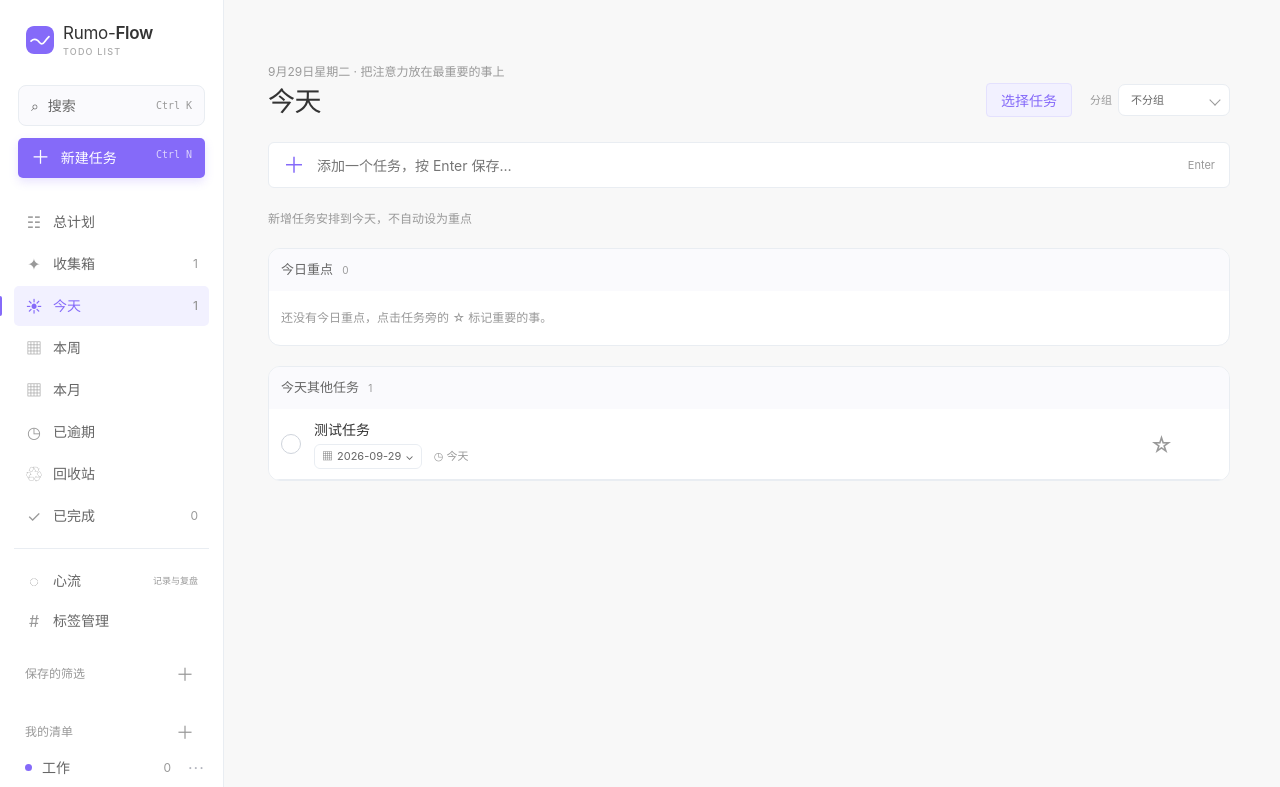
App critical interactions › toggles the list composer button state and keeps its draft until creation
Click the button named "新建清单".
click(184, 732)  # box [170, 718, 198, 746]
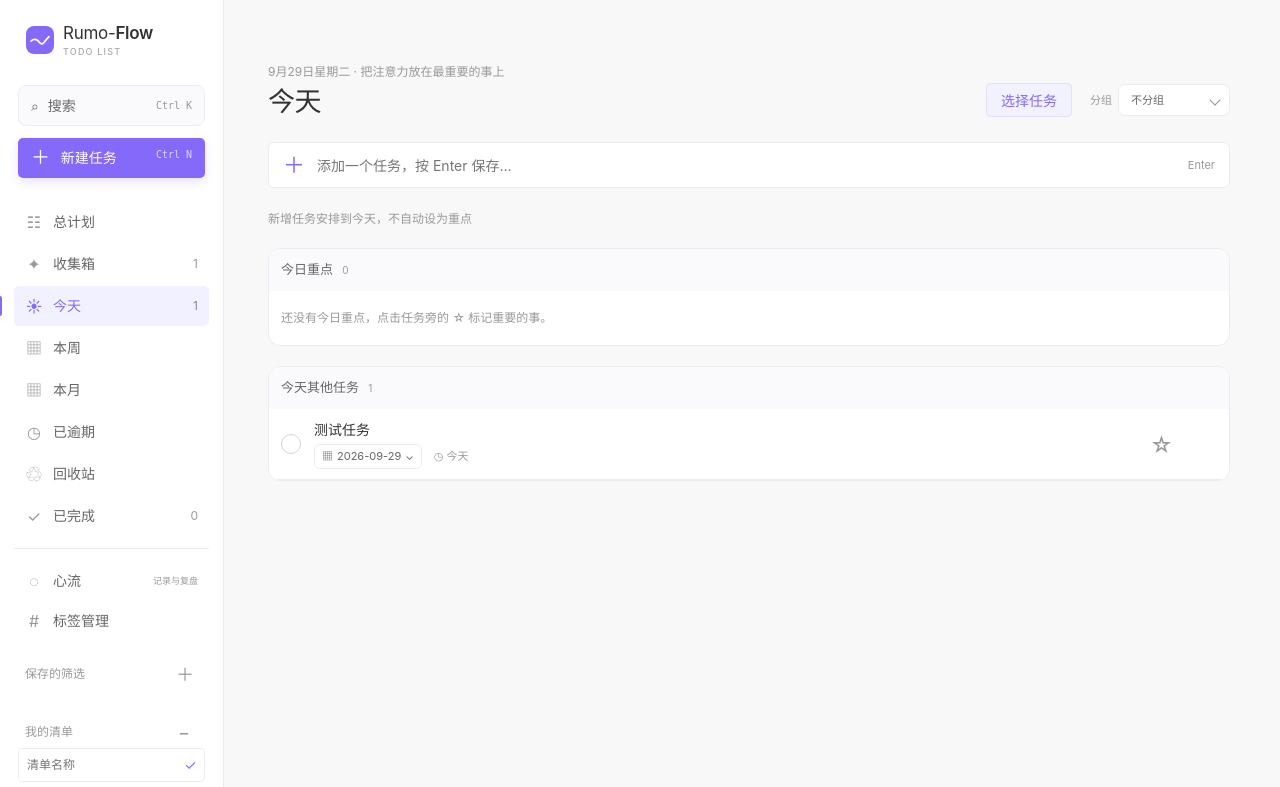
Expected: the button named "收起新建清单" reads "−", [170, 718, 198, 746]
Expected: the button named "收起新建清单" is expanded, [170, 718, 198, 746]
Expected: the element with id "list-composer-form" is shown, [18, 748, 205, 782]
Type "读书清单" into the field with placeholder "清单名称".
click(98, 765); type("读书清单")  # box [19, 749, 177, 781]
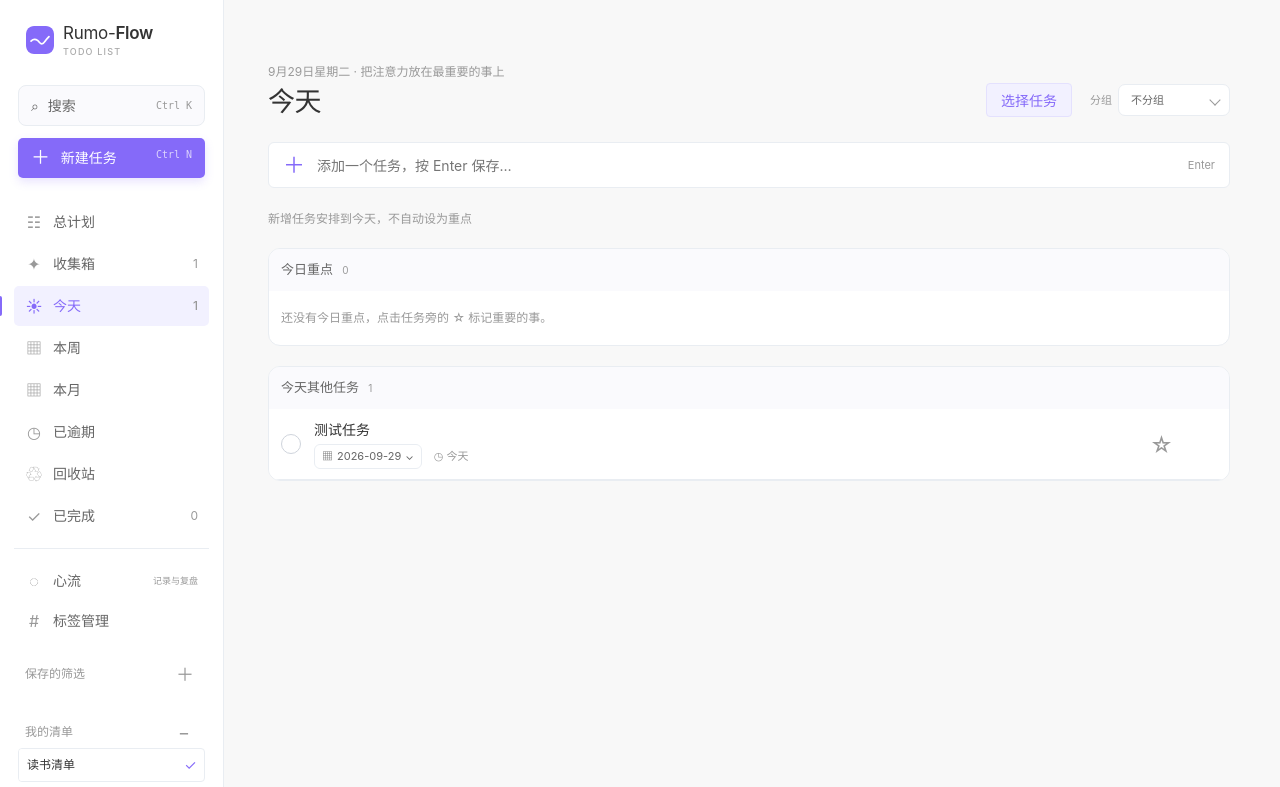
Click the button named "收起新建清单".
click(184, 732)  # box [170, 718, 198, 746]
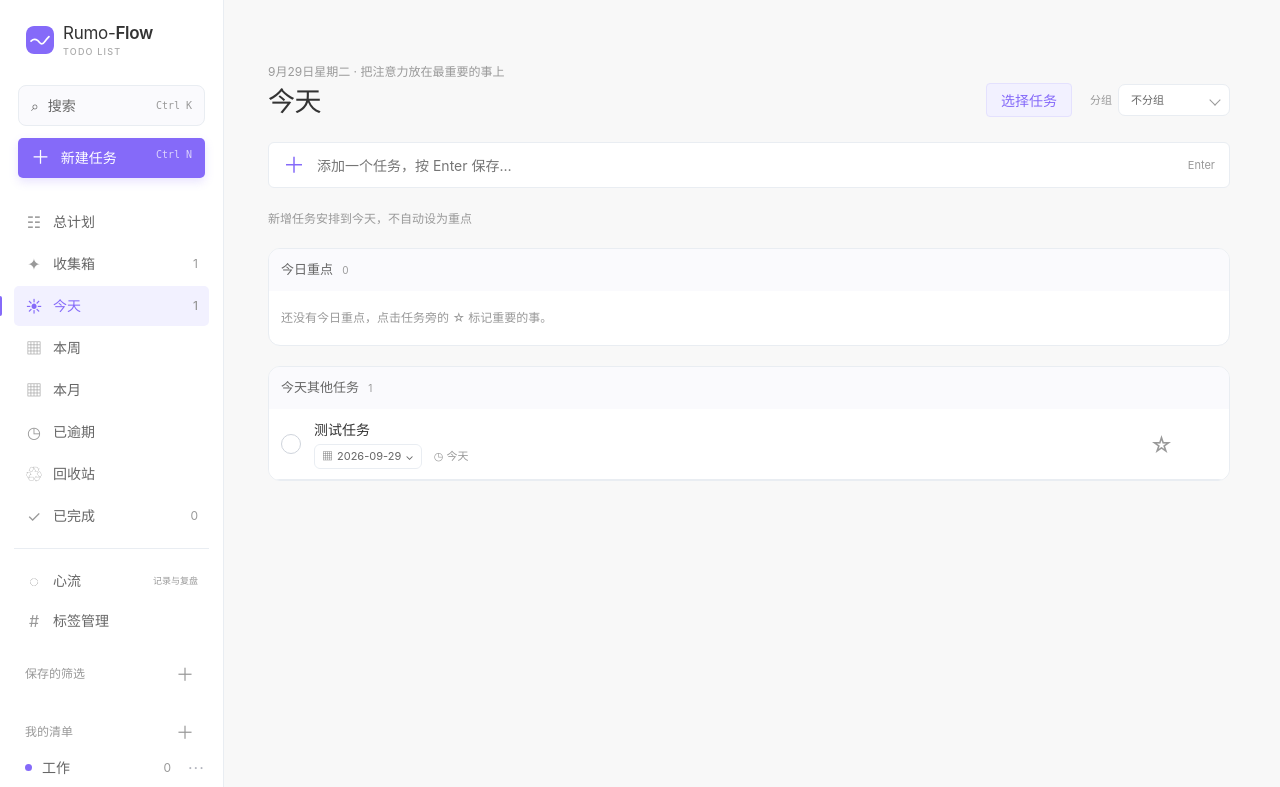
Expected: the button named "新建清单" reads "＋"
Click the button named "新建清单".
click(184, 732)  # box [170, 718, 198, 746]
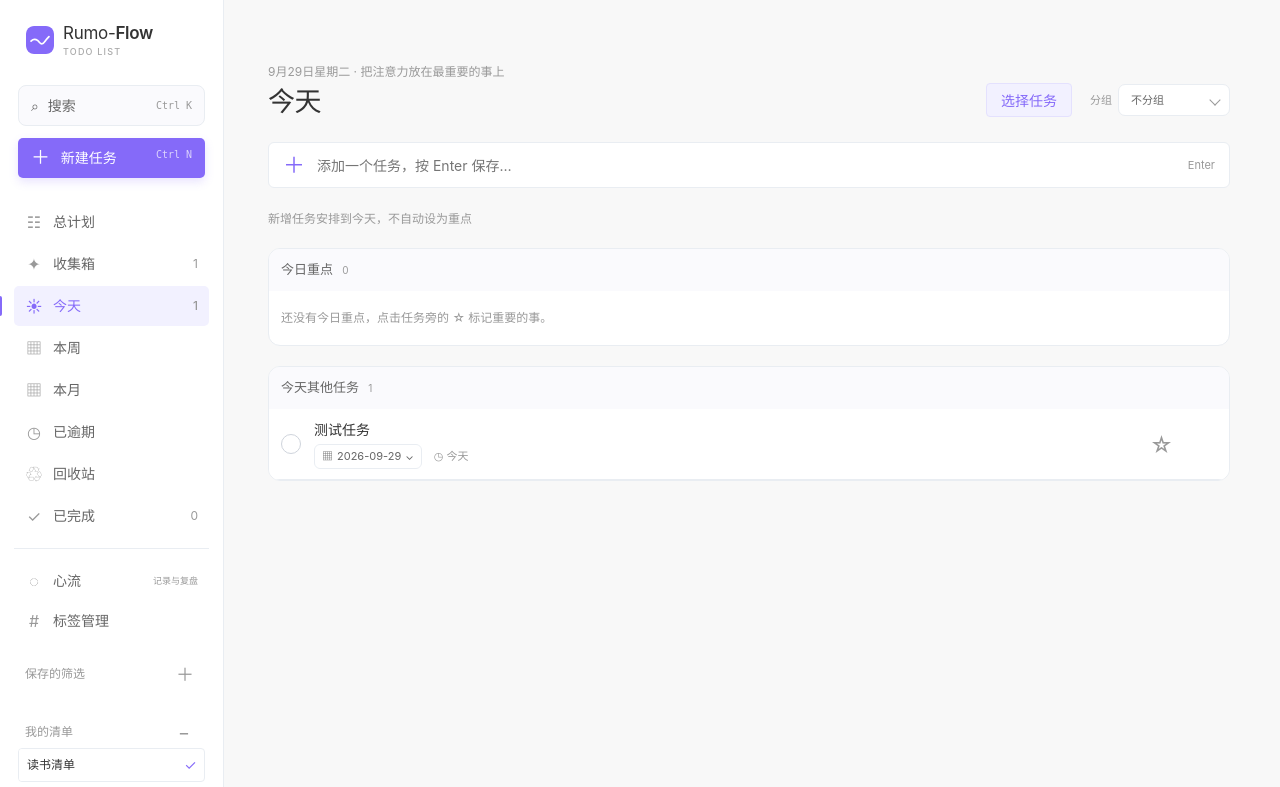
Expected: the 2nd field holds "读书清单", [19, 749, 177, 781]
Click the button "✓".
click(190, 765)  # box [177, 750, 204, 780]
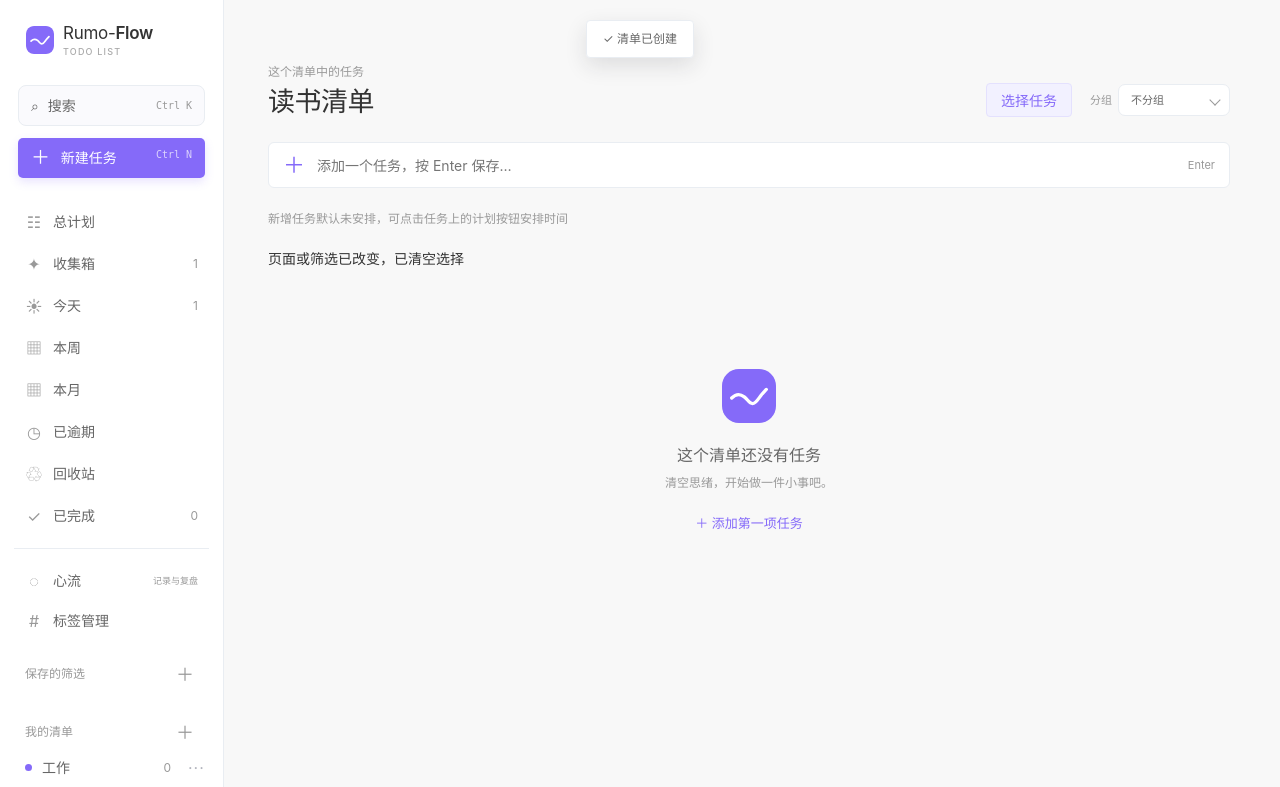
Expected: the button named "新建清单" reads "＋", [170, 718, 198, 746]
